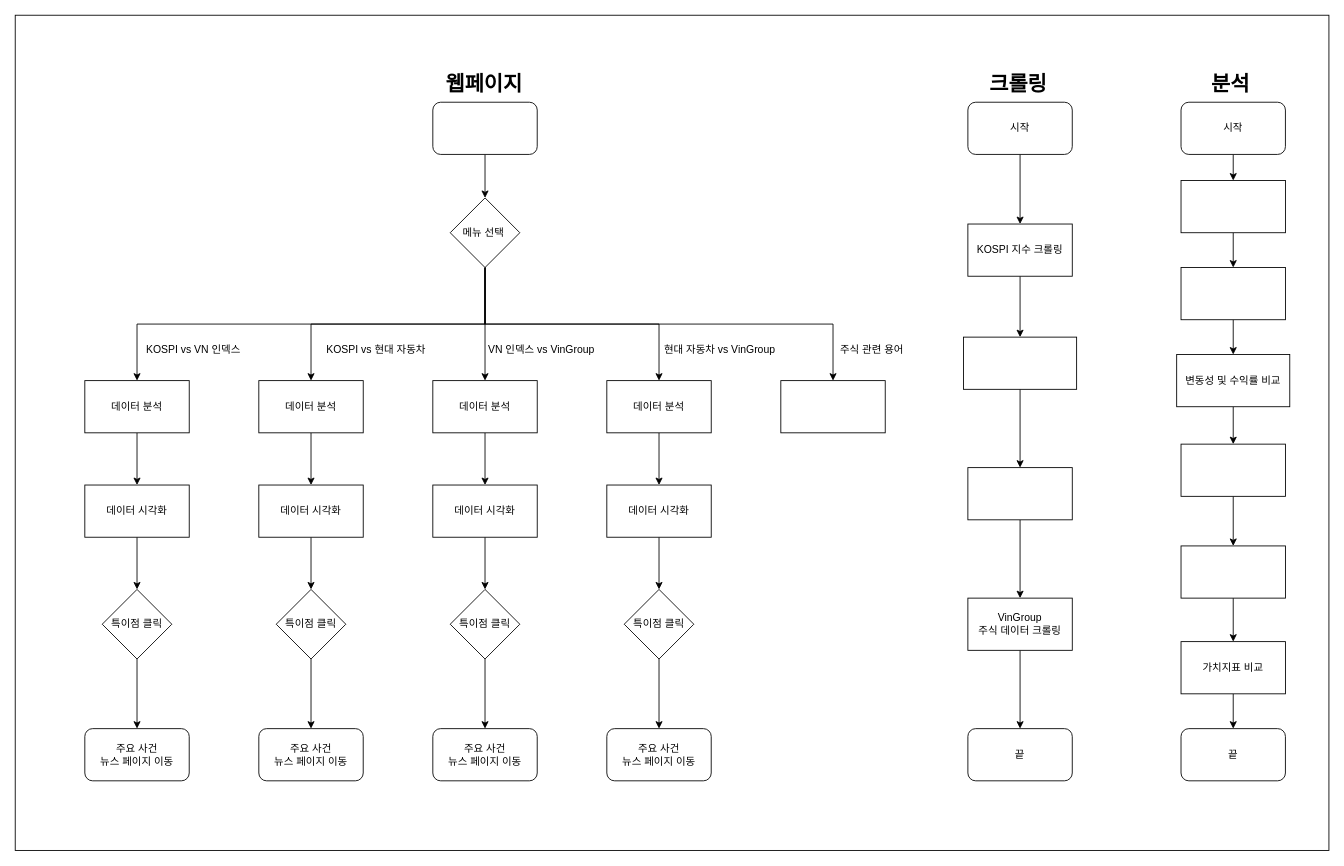
Image size: 1344x866. Some labels were removed from this diagram. Here are the shapes that lost their labels. From the top down, the box of each, then its label:
(432, 101, 537, 154): User
(1180, 180, 1285, 233): 수집한 데이터 전처리
(1180, 267, 1285, 320): 가격 동향 비교
(963, 336, 1077, 389): VN 인덱스 지수 크롤링
(780, 380, 885, 433): 관련 용어 설명
(1180, 443, 1285, 496): 기초 재무제표 분석
(967, 467, 1072, 520): 현대 자동차 주식 데이터 크롤링
(1180, 545, 1285, 598): 기술적 분석
